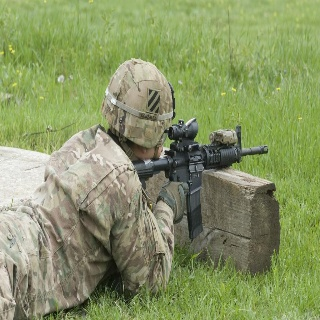rifle: (127, 118, 272, 237)
